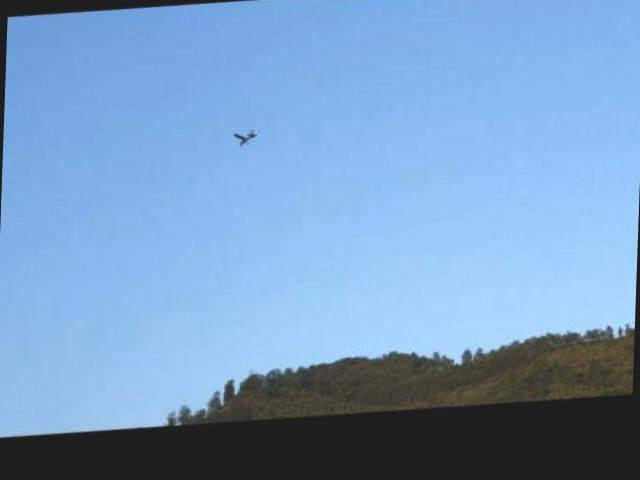uav: (233, 134, 258, 154)
